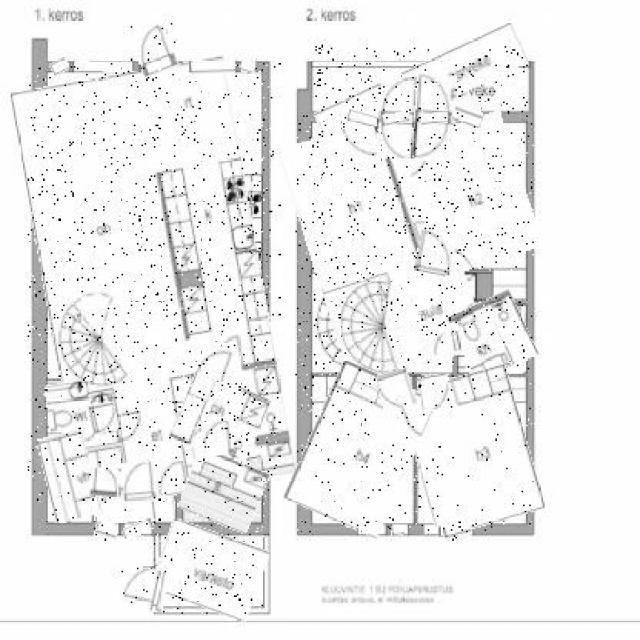door: (416, 75, 456, 160), (377, 74, 415, 158), (131, 23, 175, 79), (122, 568, 166, 610), (415, 231, 454, 275), (378, 370, 416, 412), (198, 340, 232, 380), (123, 463, 154, 502), (418, 375, 451, 411), (203, 417, 232, 455), (88, 403, 119, 434), (426, 331, 462, 354), (91, 469, 118, 497)
window: (190, 60, 236, 74), (451, 106, 483, 126), (75, 62, 131, 72), (123, 520, 154, 537), (443, 526, 472, 542), (94, 523, 118, 542), (348, 110, 377, 124), (380, 112, 409, 125), (51, 58, 69, 74), (420, 114, 448, 123), (357, 526, 385, 534), (240, 61, 255, 74), (422, 526, 440, 536), (390, 524, 404, 536)
zone: (28, 63, 280, 502), (296, 115, 470, 380), (297, 366, 423, 532), (408, 369, 537, 531), (411, 117, 534, 271), (314, 44, 528, 130), (156, 526, 266, 616), (176, 375, 264, 460), (454, 294, 534, 377), (182, 452, 264, 530), (41, 431, 97, 523), (46, 382, 92, 432), (96, 499, 176, 523)
